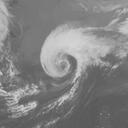cyclone: (40, 23, 111, 81)
